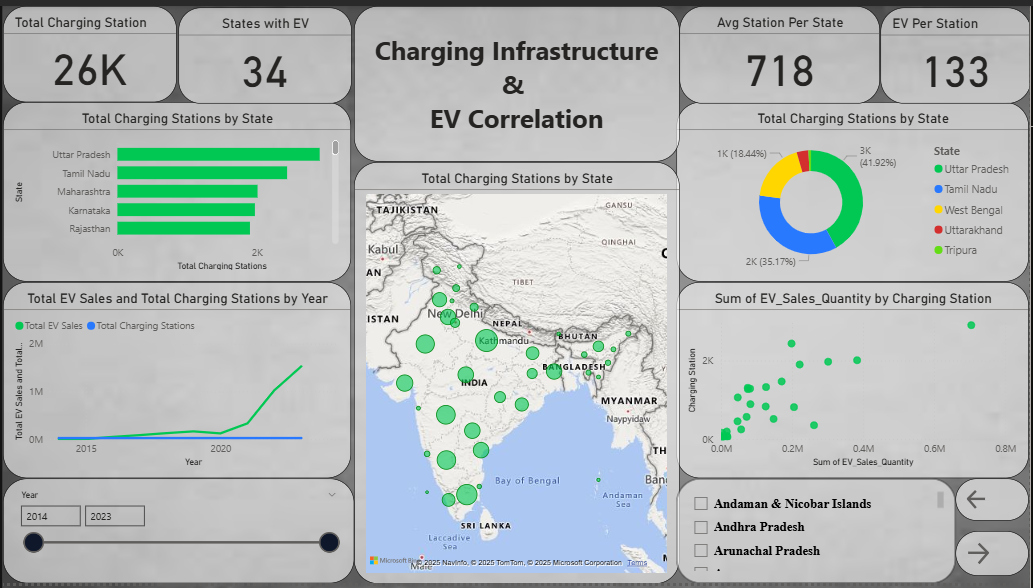

The page's visual inventory and layout, read from the dashboard file:
{"tool":"powerbi","page":{"name":"Charging Station","canvas":[1280,720],"ordinal":1},"visuals":[{"type":"card","title":"Total Charging Station","fields":{"Values":["ChargingStations.Total Charging Stations"]},"box":[0,0,217,119.7],"z":0},{"type":"barChart","fields":{"Y":["ChargingStations.Total Charging Stations"],"Category":["ChargingStations.State"]},"box":[0,119.5,433.8,224.3],"z":1000},{"type":"scatterChart","fields":{"X":["Sum(EV_Sales.EV_Sales_Quantity)"],"Y":["ChargingStations.Charging Station"]},"box":[840.1,343.7,439.3,244.5],"z":2000},{"type":"donutChart","fields":{"Category":["ChargingStations.State"],"Y":["ChargingStations.Total Charging Stations"]},"box":[840.1,119.5,439.3,224.3],"z":3000},{"type":"textbox","box":[438,0,406,194],"z":4000},{"type":"card","title":"States with EV","fields":{"Values":["EV_Sales.States_with_EV_Sales"]},"box":[218,2,216,120],"z":5000},{"type":"card","title":"EV Per Station","fields":{"Values":["EV_Sales.EV per Station"]},"box":[1094,2,188,120],"z":6000},{"type":"map","fields":{"Category":["ChargingStations.State"],"Size":["ChargingStations.Total Charging Stations"]},"box":[438,194,406,526],"z":7000},{"type":"lineChart","fields":{"Category":["EV_Sales.Year"],"Y":["EV_Sales.Total EV Sales","ChargingStations.Total Charging Stations"]},"box":[0,343.7,433.8,244.5],"z":8000},{"type":"card","title":"Avg Station Per State","fields":{"Values":["ChargingStations.Avg_ChargingStations_Per_State"]},"box":[844,0,250,122],"z":9000},{"type":"slicer","fields":{"Values":["EV_Sales.Year"]},"box":[0,589.2,437.7,130.9],"z":10000},{"type":"slicer","fields":{"Values":["ChargingStations.State"]},"box":[839.8,589.2,347.9,130.9],"z":11000},{"type":"actionButton","box":[1187.7,589.2,91.7,52.4],"z":11001},{"type":"actionButton","box":[1187.7,654.7,91.7,56.1],"z":11002}]}

Visuals, with their boxes in screenshot pixels (x1, y1, x2, y2), scaled from the page's 1280x720 canvas onto the 1033x588 screenshot:
"Total Charging Station" card: left=0, top=0, right=175, bottom=98
barChart - ChargingStations.Total Charging Stations x ChargingStations.State: left=0, top=98, right=350, bottom=281
scatterChart - Sum(EV_Sales.EV_Sales_Quantity) x ChargingStations.Charging Station: left=678, top=281, right=1032, bottom=480
donutChart - ChargingStations.State x ChargingStations.Total Charging Stations: left=678, top=98, right=1032, bottom=281
textbox: left=353, top=0, right=681, bottom=158
"States with EV" card: left=176, top=2, right=350, bottom=100
"EV Per Station" card: left=883, top=2, right=1032, bottom=100
map - ChargingStations.State x ChargingStations.Total Charging Stations: left=353, top=158, right=681, bottom=587
lineChart - EV_Sales.Year x EV_Sales.Total EV Sales: left=0, top=281, right=350, bottom=480
"Avg Station Per State" card: left=681, top=0, right=883, bottom=100
slicer - EV_Sales.Year: left=0, top=481, right=353, bottom=587
slicer - ChargingStations.State: left=678, top=481, right=959, bottom=587
actionButton: left=959, top=481, right=1032, bottom=524
actionButton: left=959, top=535, right=1032, bottom=580
